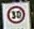limite 30: (6, 5, 25, 23)
